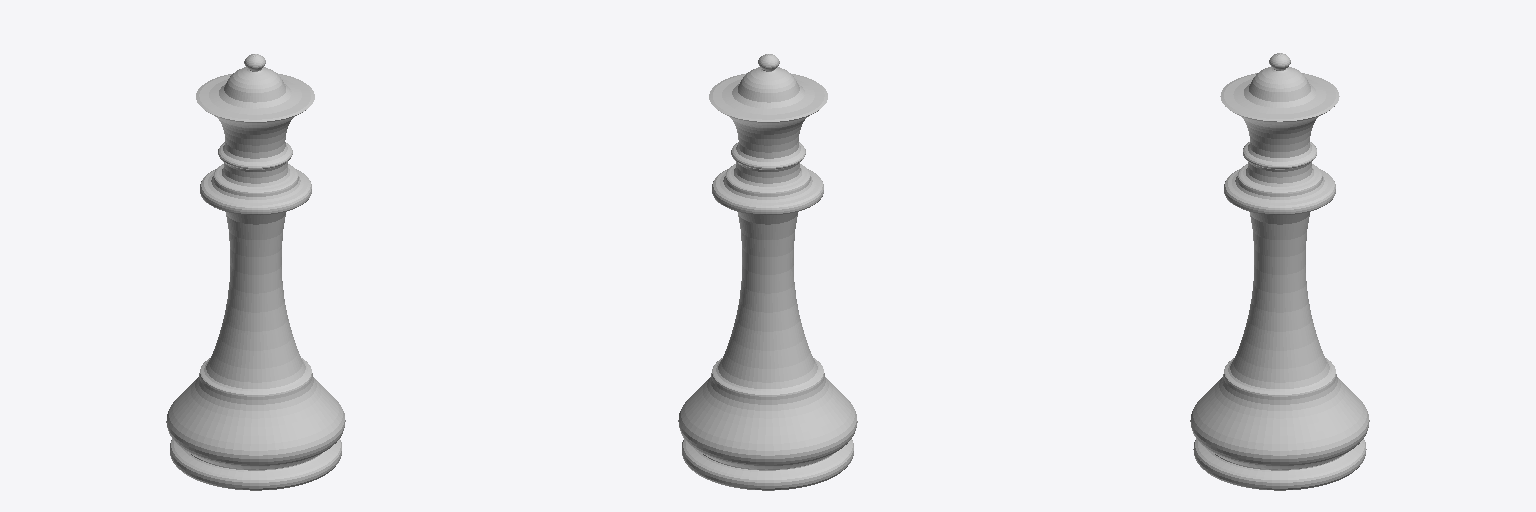
Rendered from queen.obj.
The picture shows the model from 3 angles: view 1: azimuth 30°, elevation 25°; view 2: azimuth 150°, elevation 25°; view 3: azimuth 270°, elevation 25°; orthographic projection.
Parts seen in each view (by area): view 1: queen_black_Cylinder.020; view 2: queen_black_Cylinder.020; view 3: queen_black_Cylinder.020.
Boxes of the visible parts, x1=… form: queen_black_Cylinder.020: x1=166, y1=54, x2=345, y2=490; queen_black_Cylinder.020: x1=678, y1=54, x2=857, y2=490; queen_black_Cylinder.020: x1=1190, y1=53, x2=1369, y2=490.
Size of the model in its own units: 1.33 by 3.31 by 1.33.